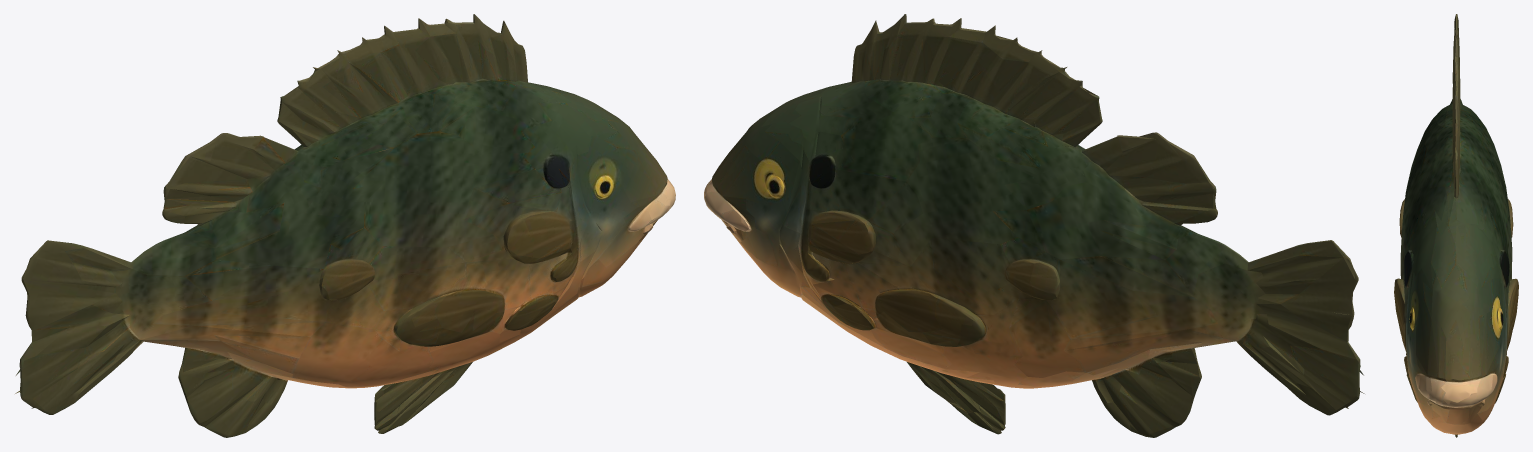
The model's file is bluegill.glb.
3 views of the same model, side by side, from view 1: azimuth 30°, elevation 25°; view 2: azimuth 150°, elevation 25°; view 3: azimuth 270°, elevation 25° (orthographic). The views are drawn at different scales.
Visible parts, largest first — view 1: fish; view 2: fish; view 3: fish.
Part boxes in pixels (<box>): fish: <box>15,14,675,437</box>; fish: <box>704,14,1364,437</box>; fish: <box>1394,14,1518,437</box>.
Size of the model in its own units: 1 by 0.5934 by 0.1728.
Materials: 1 (1 with a texture image).
